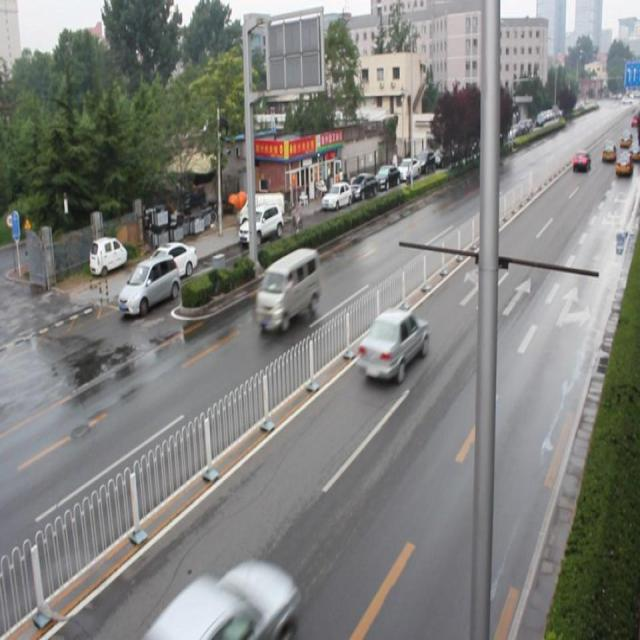car: (151, 560, 297, 633), (357, 312, 427, 386)
truck: (257, 249, 319, 333)
